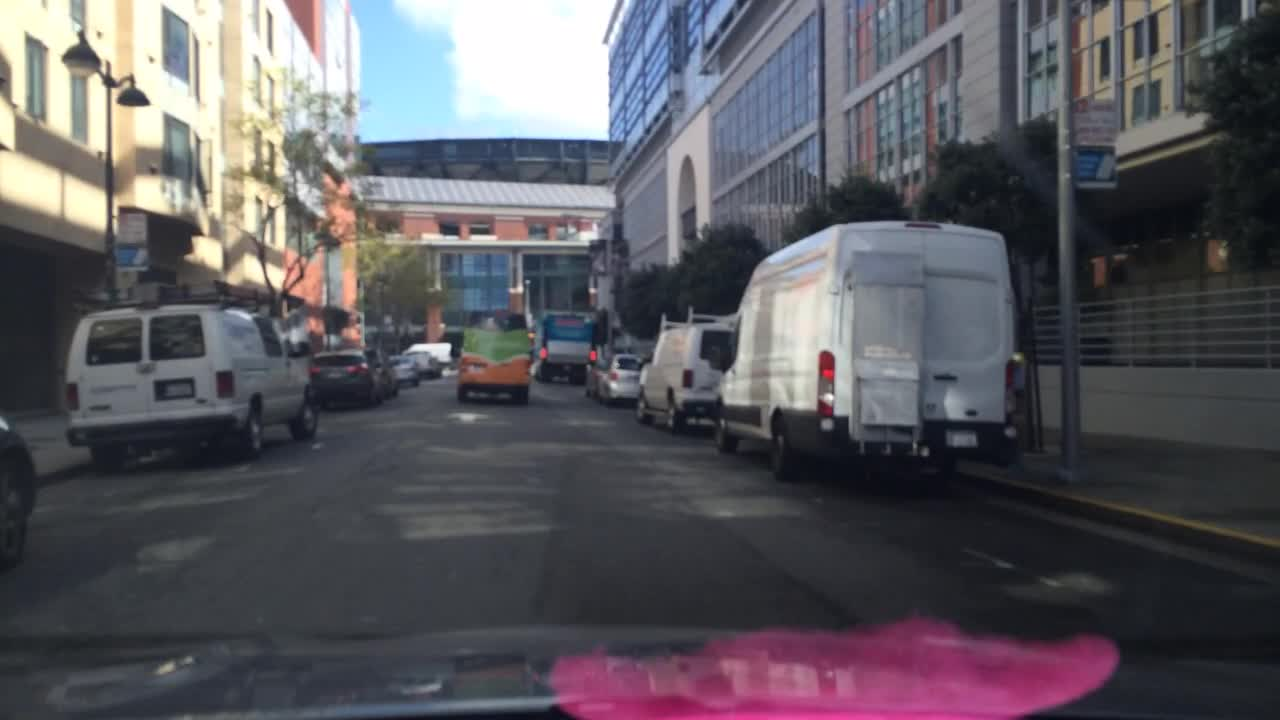bus: (535, 310, 599, 381)
car: (454, 312, 535, 403), (0, 408, 33, 570), (314, 349, 379, 408), (600, 352, 641, 410), (364, 345, 400, 391), (408, 340, 452, 367), (582, 356, 611, 394), (403, 347, 438, 377), (388, 354, 418, 381), (523, 334, 538, 362)
truck: (719, 215, 1036, 475), (57, 286, 320, 455), (638, 307, 730, 426)
